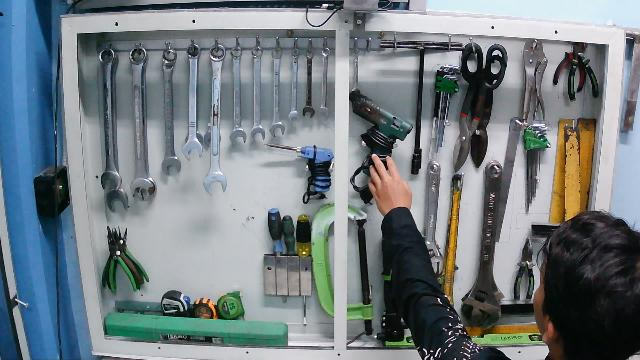gun_lem: (348, 83, 414, 208)
